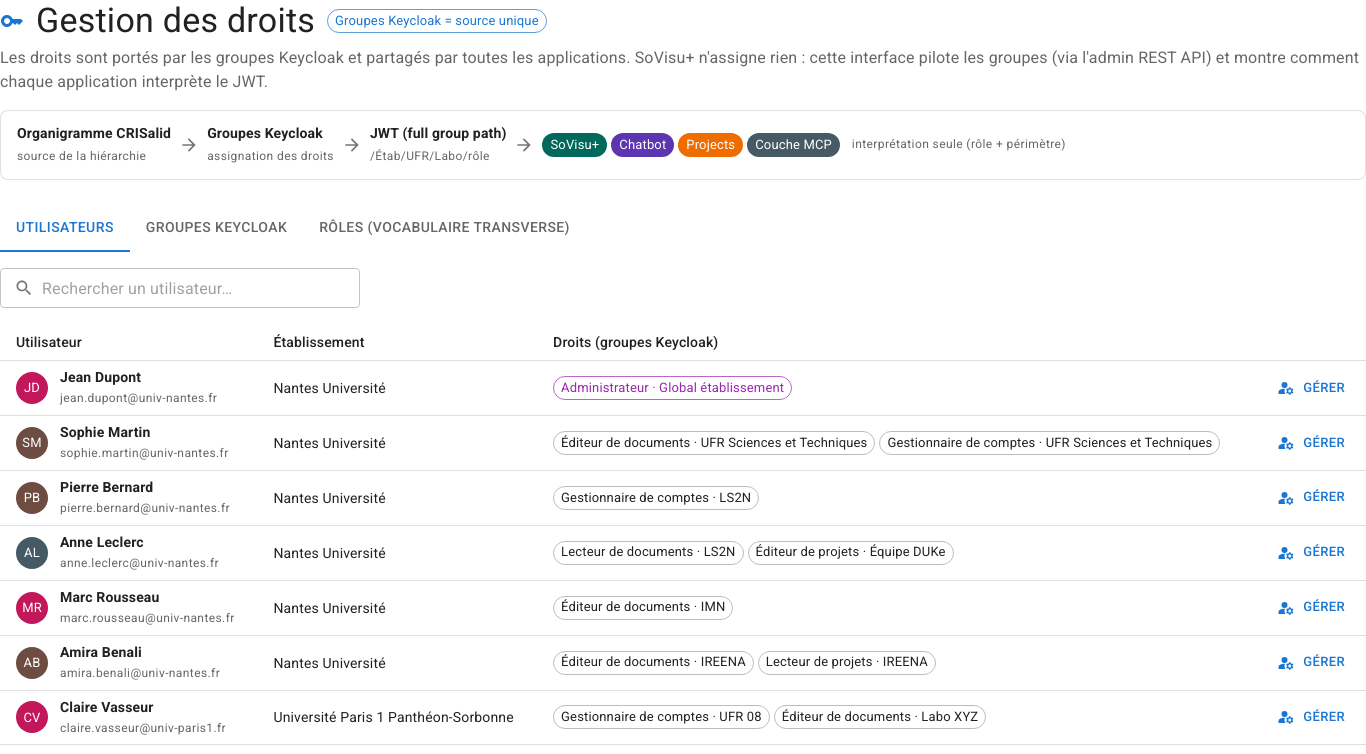
Test: RightsPage › ouvre la fiche des droits d’un utilisateur avec le JWT décodé
Click the button "Gérer" in the row of "sophie.martin@univ-nantes.fr": (1312,443) [1274,428,1350,458]
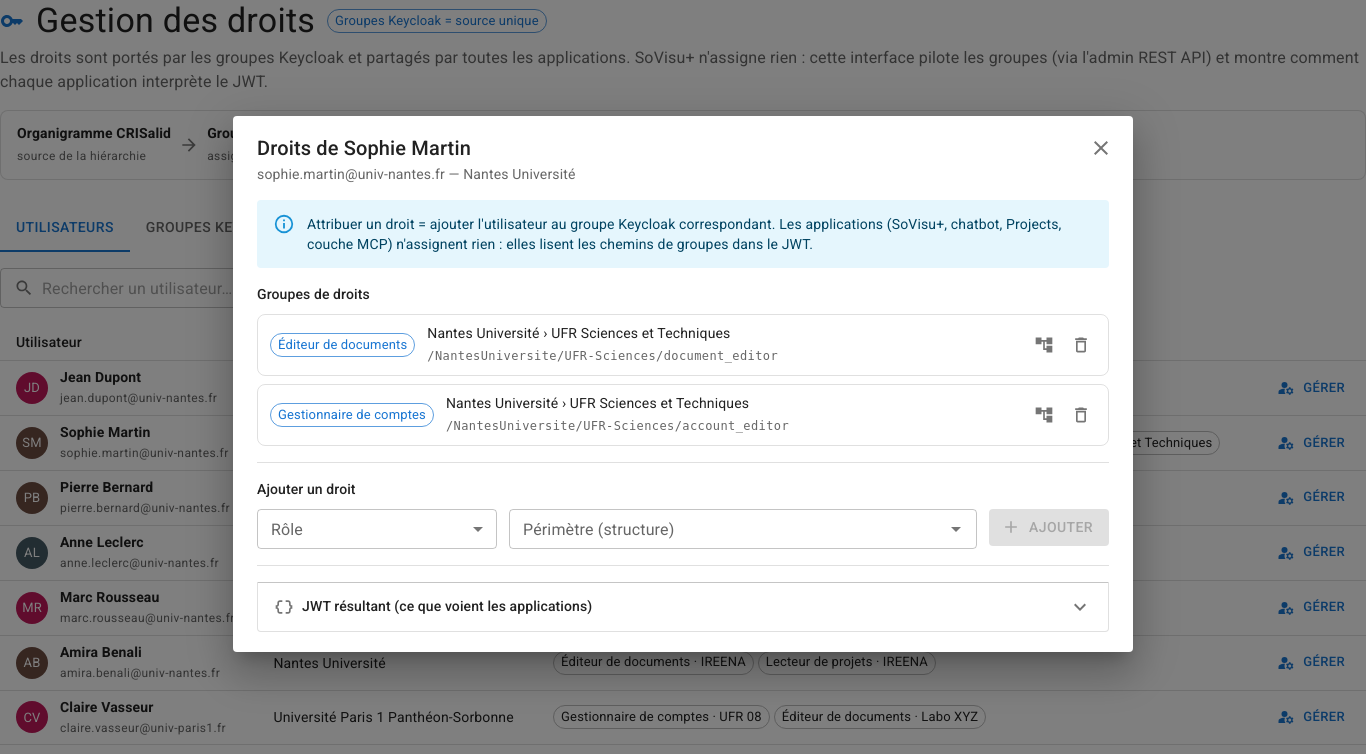
Result: the heading "Droits de Sophie Martin" is shown at [257,136,471,160]
Result: the text "/NantesUniversite/UFR-Sciences/document_editor" is shown at [427,349,778,363]
Note: Accordéon JWT
Click the button "JWT résultant (ce que voient les applications)": (447,606) [258,583,1108,631]
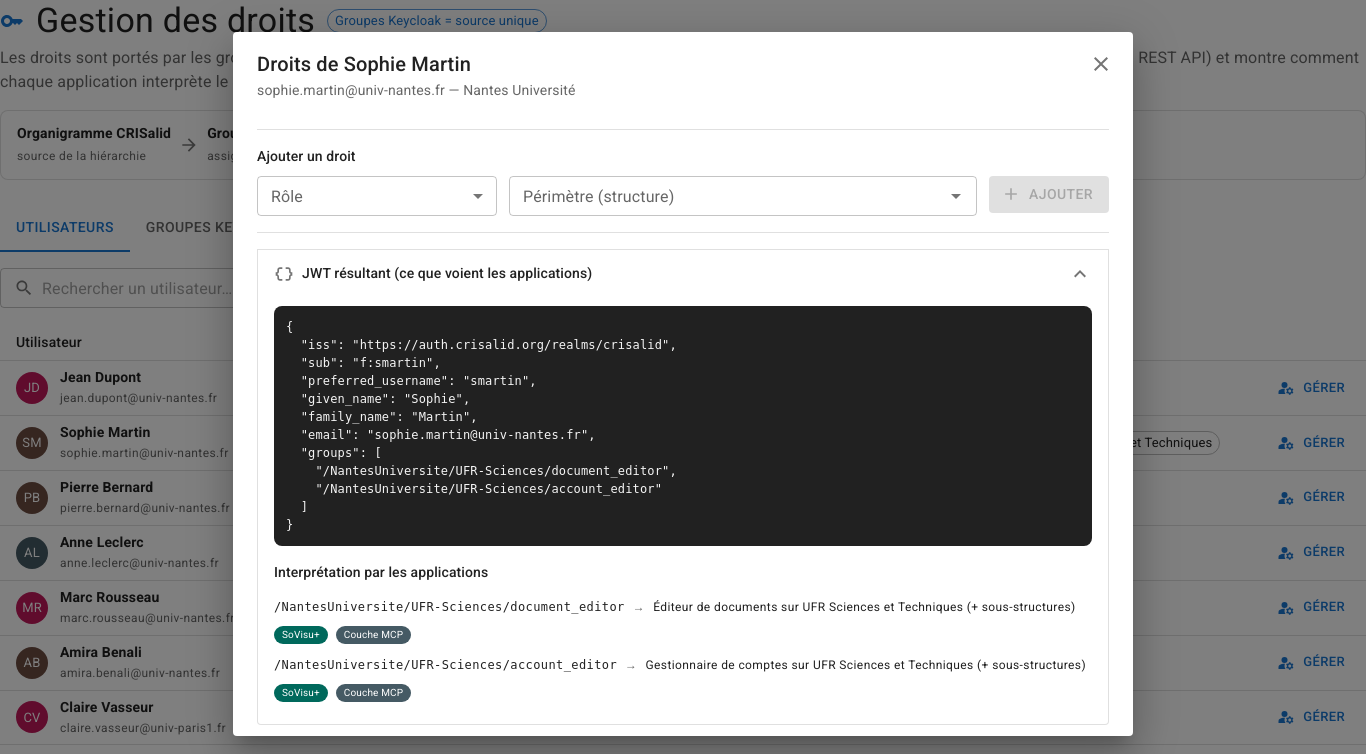
Result: the text "\"groups\":" is shown at [286,320,677,532]
